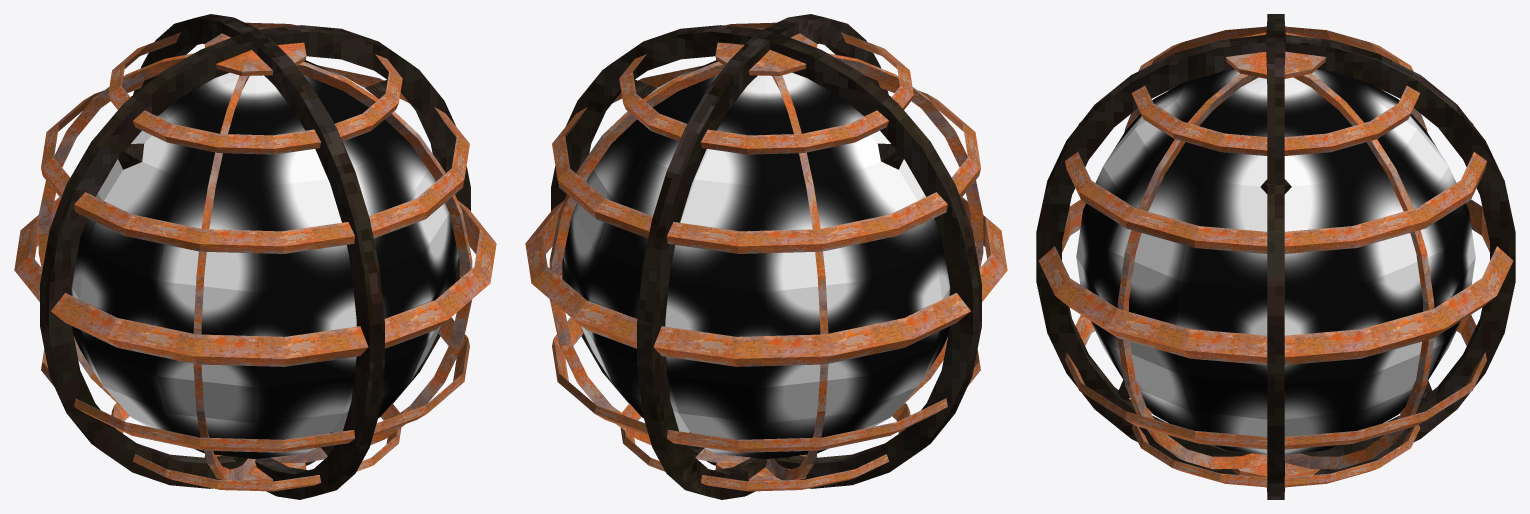
File: BreakableCage.dae
3 renders of one model, left to right at view 1: azimuth 30°, elevation 25°; view 2: azimuth 150°, elevation 25°; view 3: azimuth 270°, elevation 25°, orthographic.
Visible parts, largest first — view 1: m2, m1, m0; view 2: m2, m1, m0; view 3: m2, m1, m0.
Boxes of the visible parts, x1,y1,x2,y2 form: m2: (71, 60, 458, 459); m1: (14, 22, 496, 491); m0: (40, 14, 470, 499); m2: (563, 60, 950, 459); m1: (525, 22, 1007, 491); m0: (551, 14, 981, 499); m2: (1076, 69, 1475, 454); m1: (1038, 26, 1513, 487); m0: (1036, 14, 1515, 499).
Bounding box in the file's own units: 608 × 610 × 608.
3 materials, 3 textured.
